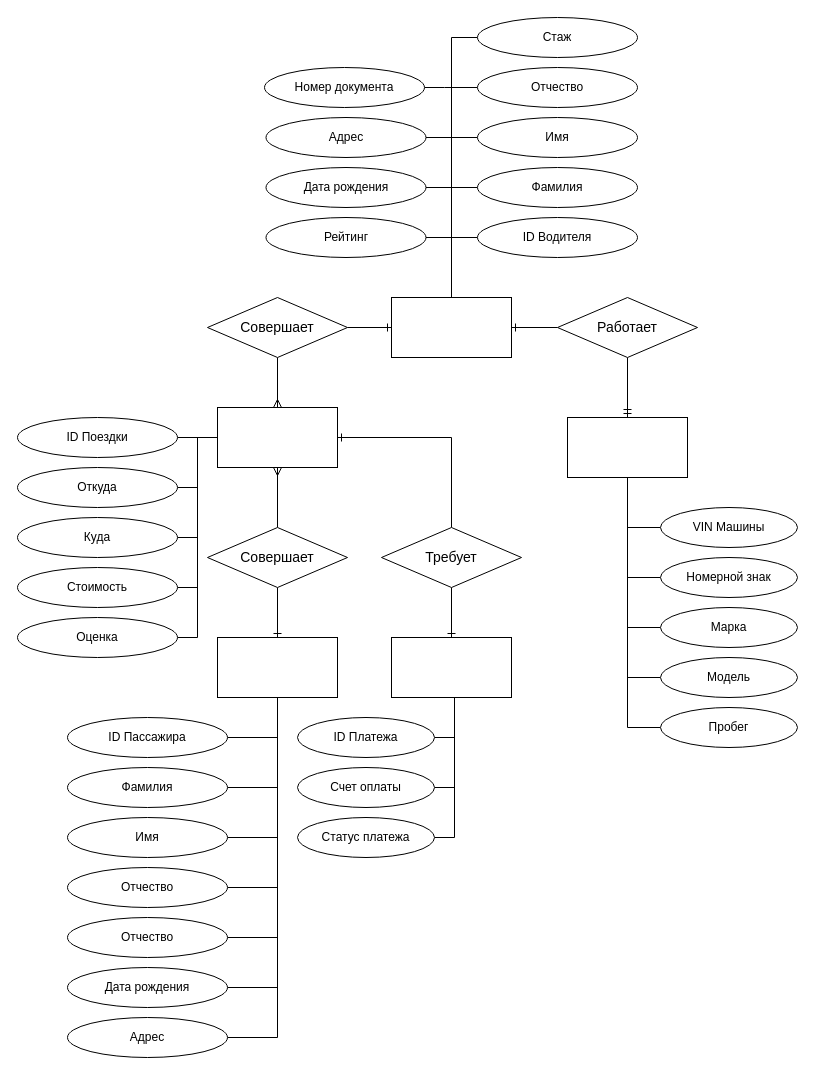
This 815x1075 diagram has some shape labels left out. The centre of each missing label's shape, as x and y in pixels:
Водитель: pixel 451 327
Машина: pixel 627 447
Пассажир: pixel 277 667
Платеж: pixel 451 667
Поездка: pixel 277 437
